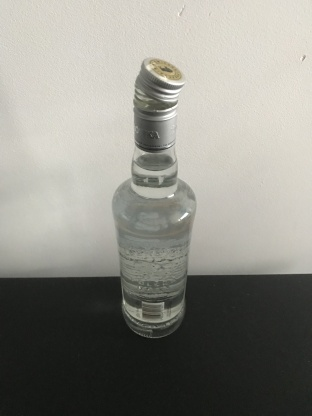nakretka: (131, 55, 186, 152)
